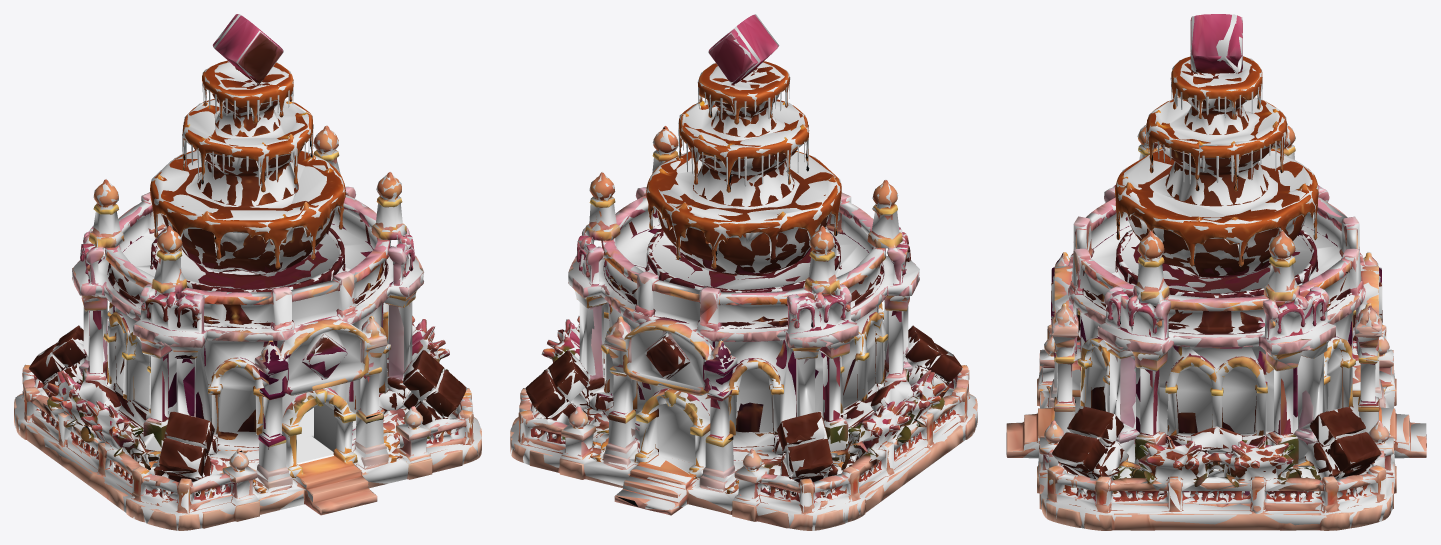
The model's file is HOB_BLD_ChocoFactory.fbx.
3 renders of one model, left to right at view 1: azimuth 30°, elevation 25°; view 2: azimuth 150°, elevation 25°; view 3: azimuth 270°, elevation 25°, orthographic. The views are drawn at different scales.
Parts seen in each view (by area): view 1: HOB_BLD_ChocoFactory, COL_HOB_BLD_ChocoFactory_Shell, COL_HOB_BLD_ChocoFactory_Room, HOB_BLD_ChocoFactory_Anim_Drip; view 2: COL_HOB_BLD_ChocoFactory_Shell, HOB_BLD_ChocoFactory, HOB_BLD_ChocoFactory_Anim_Drip; view 3: HOB_BLD_ChocoFactory, COL_HOB_BLD_ChocoFactory_Shell, HOB_BLD_ChocoFactory_Anim_Drip.
Boxes of the visible parts, x1,y1,x2,y2 form: HOB_BLD_ChocoFactory: [14, 14, 481, 530]; COL_HOB_BLD_ChocoFactory_Shell: [15, 14, 481, 530]; COL_HOB_BLD_ChocoFactory_Room: [296, 403, 371, 514]; HOB_BLD_ChocoFactory_Anim_Drip: [182, 80, 313, 186]; COL_HOB_BLD_ChocoFactory_Shell: [511, 14, 977, 530]; HOB_BLD_ChocoFactory: [510, 14, 977, 530]; HOB_BLD_ChocoFactory_Anim_Drip: [678, 77, 809, 186]; HOB_BLD_ChocoFactory: [1006, 14, 1426, 530]; COL_HOB_BLD_ChocoFactory_Shell: [1009, 14, 1426, 530]; HOB_BLD_ChocoFactory_Anim_Drip: [1146, 71, 1287, 184].
Bounding box in the file's own units: 4377 × 4898 × 4344.
